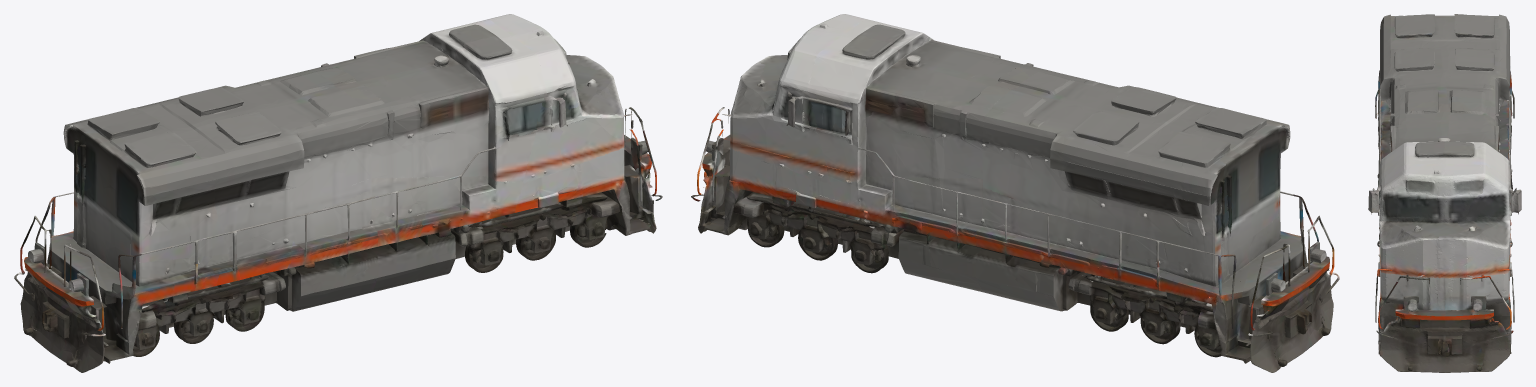
The picture shows the model from 3 angles, left to right: view 1: azimuth 30°, elevation 25°; view 2: azimuth 150°, elevation 25°; view 3: azimuth 270°, elevation 25°; orthographic projection. The views are drawn at different scales.
Visible parts, largest first — view 1: tripo_node_9bf6546b-ab28-48c1-b82f-32002c9ca459; view 2: tripo_node_9bf6546b-ab28-48c1-b82f-32002c9ca459; view 3: tripo_node_9bf6546b-ab28-48c1-b82f-32002c9ca459.
Boxes of the visible parts, bbox=[...] form: tripo_node_9bf6546b-ab28-48c1-b82f-32002c9ca459: bbox=[14, 14, 662, 372]; tripo_node_9bf6546b-ab28-48c1-b82f-32002c9ca459: bbox=[691, 14, 1339, 372]; tripo_node_9bf6546b-ab28-48c1-b82f-32002c9ca459: bbox=[1368, 14, 1521, 372].
Bounding box in the file's own units: 1 × 0.3411 × 0.2818.
Materials: 1 (1 with a texture image).
